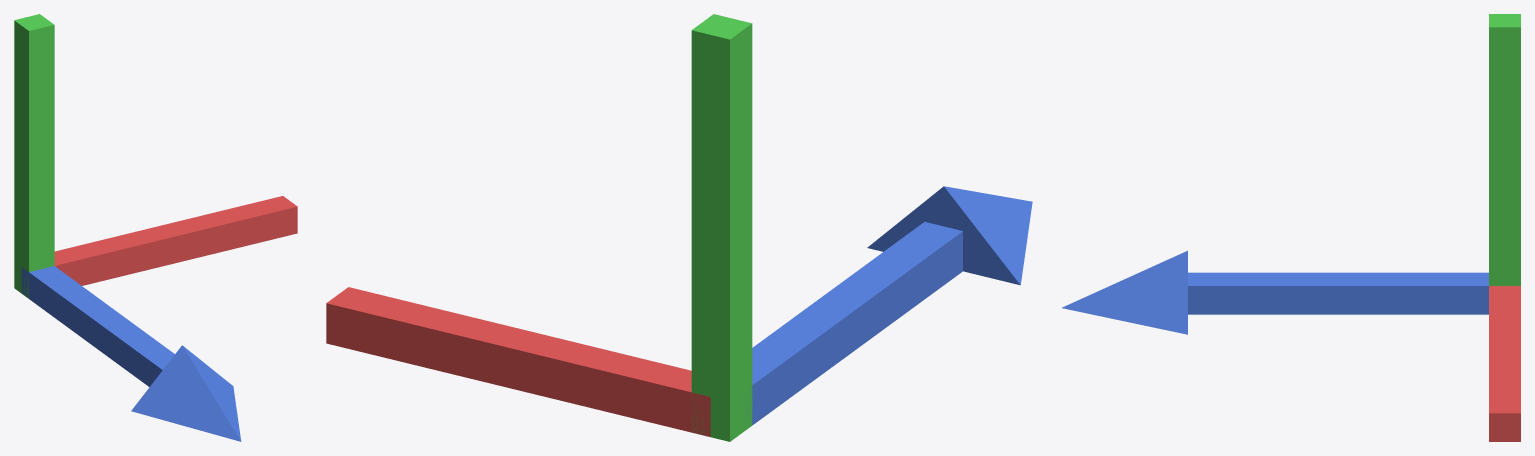
File: axes.glb
The picture shows the model from 3 angles, left to right: view 1: azimuth 30°, elevation 25°; view 2: azimuth 150°, elevation 25°; view 3: azimuth 270°, elevation 25°; orthographic projection. The views are drawn at different scales.
Visible parts, largest first — view 1: front, up, plus_x; view 2: up, front, plus_x; view 3: front, up, plus_x.
Boxes of the visible parts, bbox=[...] form: front: bbox=[21, 266, 241, 441]; up: bbox=[14, 14, 54, 298]; plus_x: bbox=[54, 196, 297, 285]; up: bbox=[691, 14, 752, 441]; front: bbox=[745, 186, 1032, 425]; plus_x: bbox=[326, 287, 710, 436]; front: bbox=[1062, 250, 1488, 334]; up: bbox=[1489, 14, 1520, 285]; plus_x: bbox=[1489, 286, 1520, 441].
Size of the model in its own units: 2.4 by 2 by 2.9.
